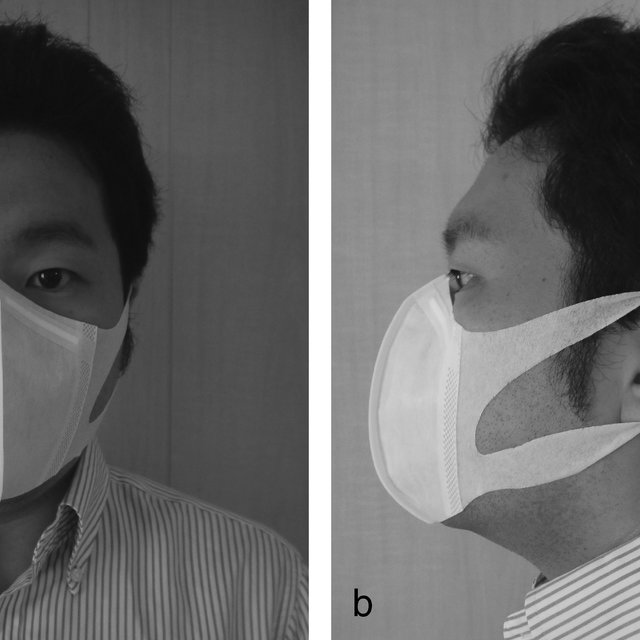with_mask: (396, 64, 640, 579), (1, 36, 164, 521)
